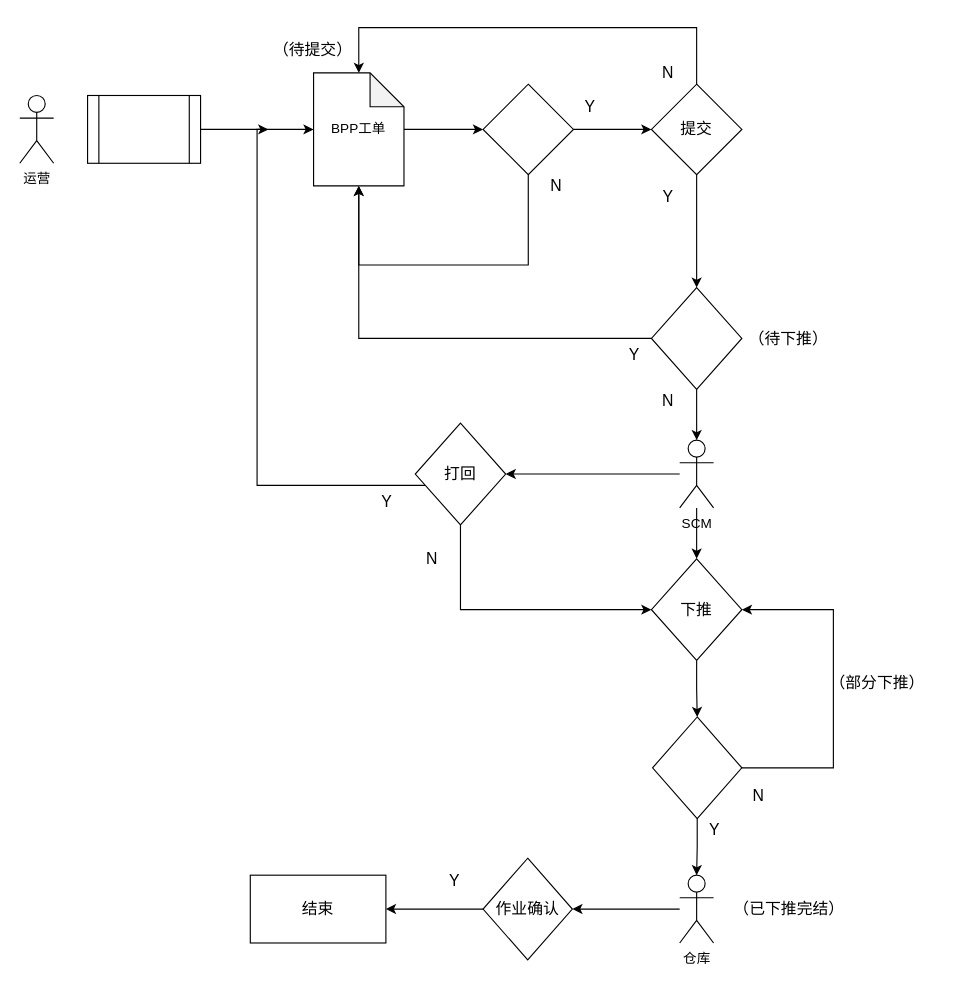
The diagram is 953 pixels wide and 986 high, and some of its shapes have lost their labels. Here are the shapes that lost their labels. From the top down, the box of each, then its label:
(86, 94, 201, 163): 创建工单
(482, 83, 573, 175): 保存修改
(650, 286, 742, 389): 撤回
(651, 716, 742, 819): 全部下推
